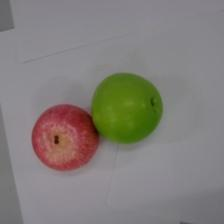green: (91, 73, 163, 143)
red: (31, 105, 99, 170)
